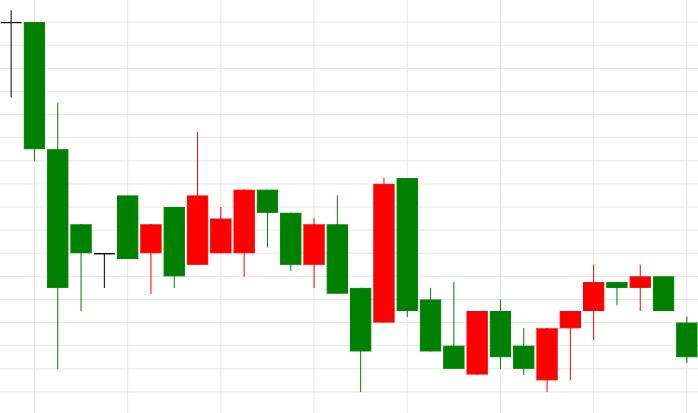hanging_man_fall: (141, 131, 278, 294)
inverse_hammer_rise: (372, 178, 465, 368)
